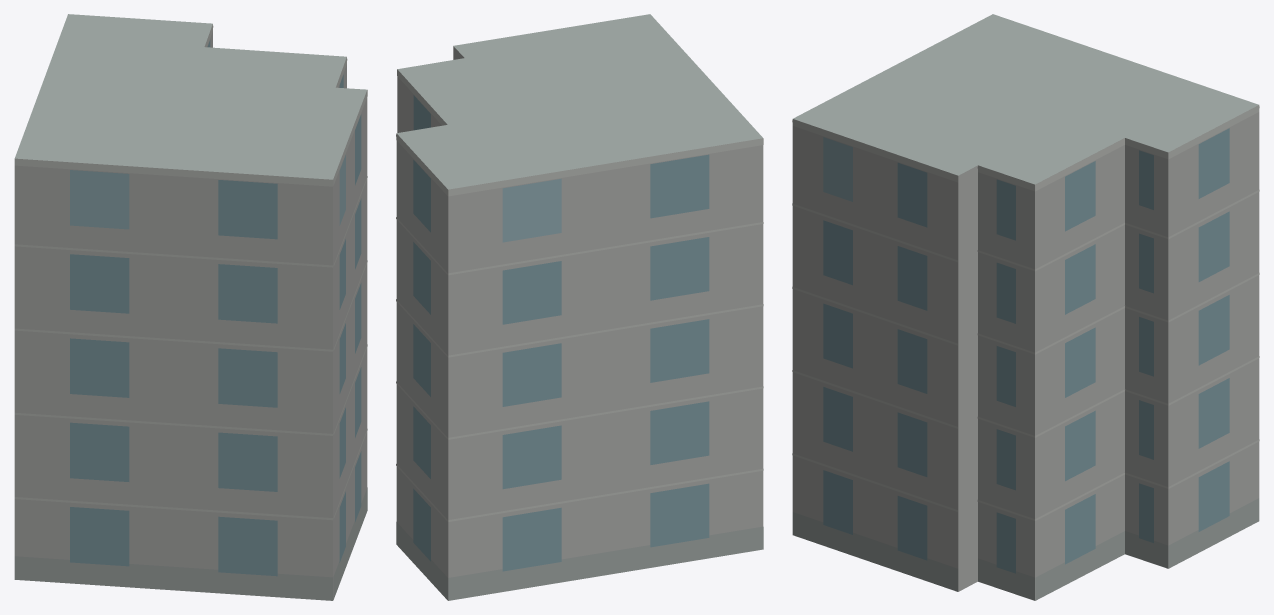
Rendered from survey-upis-32990838.glb.
3 views of the same model, side by side, from view 1: azimuth 30°, elevation 25°; view 2: azimuth 150°, elevation 25°; view 3: azimuth 270°, elevation 25° (orthographic). The views are drawn at different scales.
Visible parts, largest first — view 1: survey-upis-32990838.tmp; view 2: survey-upis-32990838.tmp; view 3: survey-upis-32990838.tmp.
Boxes of the visible parts, bbox=[...] form: survey-upis-32990838.tmp: bbox=[14, 14, 367, 600]; survey-upis-32990838.tmp: bbox=[396, 14, 763, 600]; survey-upis-32990838.tmp: bbox=[792, 14, 1259, 600].
Size of the model in its own units: 12.9 by 14.65 by 14.9.
